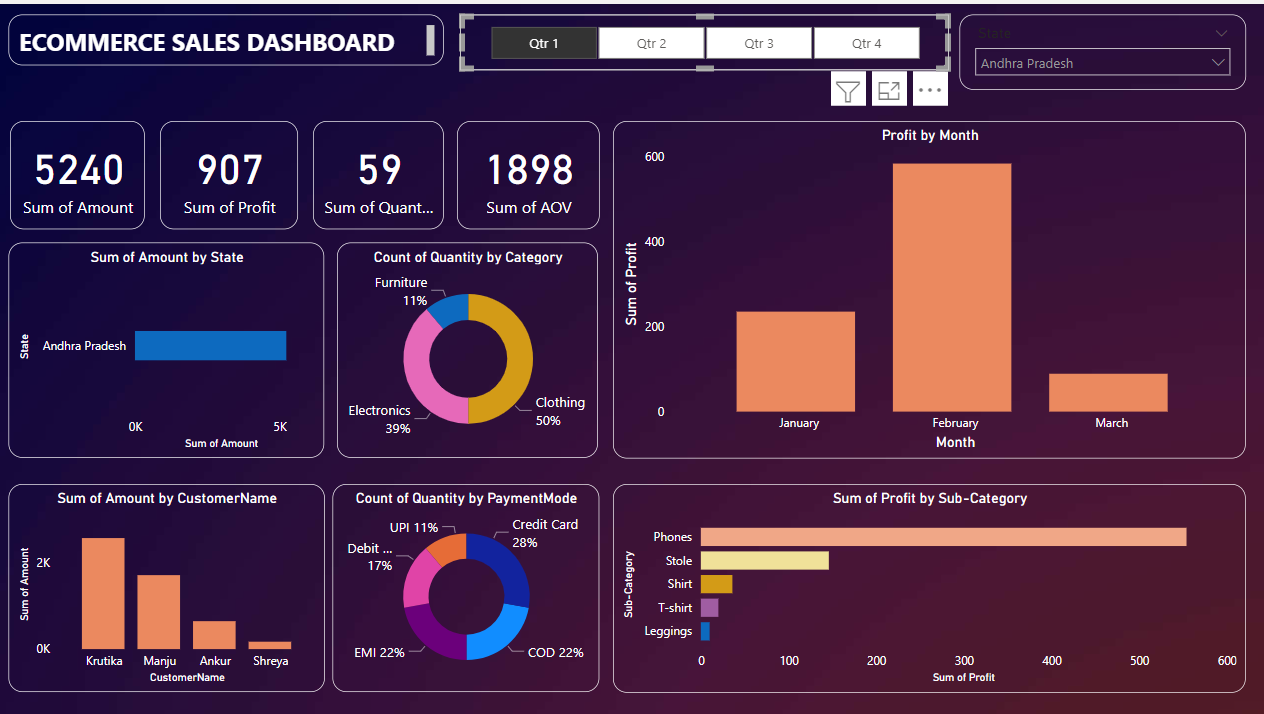

The page's visual inventory and layout, read from the dashboard file:
{"tool":"powerbi","page":{"name":"Page 1","canvas":[1280,720],"ordinal":0},"visuals":[{"type":"columnChart","title":"Profit by Month","fields":{"Category":["Orders.Order Date.Variation.Date Hierarchy.Month"],"Y":["Details.Profit"]},"box":[620.8,118.1,639,340.7],"z":0},{"type":"barChart","fields":{"Category":["Details.Sub-Category"],"Y":["Details.Profit"]},"box":[620.8,484.5,639,210.5],"z":1000},{"type":"donutChart","fields":{"Category":["Details.Category"],"Y":["Details.Quantity"]},"box":[342.9,241.5,263.6,217.5],"z":2000},{"type":"donutChart","fields":{"Y":["Details.Quantity"],"Category":["Details.PaymentMode"]},"box":[337.4,484.8,269.2,210.2],"z":3000},{"type":"card","fields":{"Values":["Details.Amount"]},"box":[12.1,118.1,136.3,109],"z":4000},{"type":"card","fields":{"Values":["Details.Profit"]},"box":[163.5,118.1,139.3,109],"z":5000},{"type":"card","fields":{"Values":["Details.Quantity"]},"box":[318,118.1,131.7,109],"z":6000},{"type":"card","fields":{"Values":["Details.AOV"]},"box":[463.3,118.1,143.8,109],"z":7000},{"type":"barChart","fields":{"Category":["Orders.State"],"Y":["Details.Amount"]},"box":[11.1,241.5,318.9,217.5],"z":8000},{"type":"columnChart","fields":{"Category":["Orders.CustomerName"],"Y":["Details.Amount"]},"box":[11,485,319,210],"z":9000},{"type":"textbox","box":[10.6,10.6,439.1,51.5],"z":10000},{"type":"slicer","fields":{"Values":["Orders.Order Date.Variation.Date Hierarchy.Quarter"]},"box":[466.4,10.6,493.6,56],"z":11000},{"type":"slicer","fields":{"Values":["Orders.State"]},"box":[970.6,10.6,289.2,75.7],"z":12000}]}

Visuals, with their boxes in screenshot pixels (x1, y1, x2, y2), scaled from the page's 1280x720 canvas onto the 1264x714 screenshot:
"Profit by Month" columnChart: left=613, top=117, right=1244, bottom=455
barChart - Details.Sub-Category x Details.Profit: left=613, top=480, right=1244, bottom=689
donutChart - Details.Category x Details.Quantity: left=339, top=239, right=599, bottom=455
donutChart - Details.Quantity x Details.PaymentMode: left=333, top=481, right=599, bottom=689
card - Details.Amount: left=12, top=117, right=147, bottom=225
card - Details.Profit: left=161, top=117, right=299, bottom=225
card - Details.Quantity: left=314, top=117, right=444, bottom=225
card - Details.AOV: left=458, top=117, right=600, bottom=225
barChart - Orders.State x Details.Amount: left=11, top=239, right=326, bottom=455
columnChart - Orders.CustomerName x Details.Amount: left=11, top=481, right=326, bottom=689
textbox: left=10, top=11, right=444, bottom=62
slicer - Orders.Order Date.Variation.Date Hierarchy.Quarter: left=461, top=11, right=948, bottom=66
slicer - Orders.State: left=958, top=11, right=1244, bottom=86
